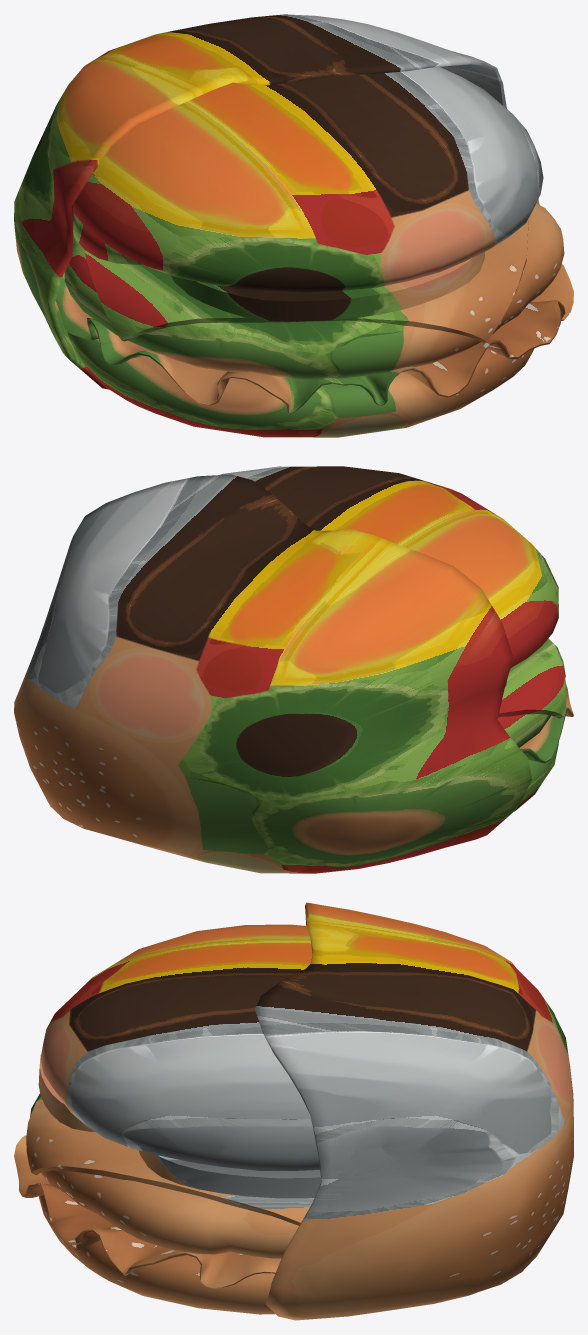
3 renders of one model, top to bottom at view 1: azimuth 30°, elevation 25°; view 2: azimuth 150°, elevation 25°; view 3: azimuth 270°, elevation 25°, orthographic. The views are drawn at different scales.
Visible parts, largest first — view 1: Item_Hamburger001_Model_UV2; view 2: Item_Hamburger001_Model_UV2; view 3: Item_Hamburger001_Model_UV2.
Part boxes in pixels (<box>): Item_Hamburger001_Model_UV2: <box>14,14,573,437</box>; Item_Hamburger001_Model_UV2: <box>14,466,573,873</box>; Item_Hamburger001_Model_UV2: <box>14,902,573,1320</box>.
Bounding box in the file's own units: 0.1219 × 0.0715 × 0.1269.
Materials: 1 (1 with a texture image).
